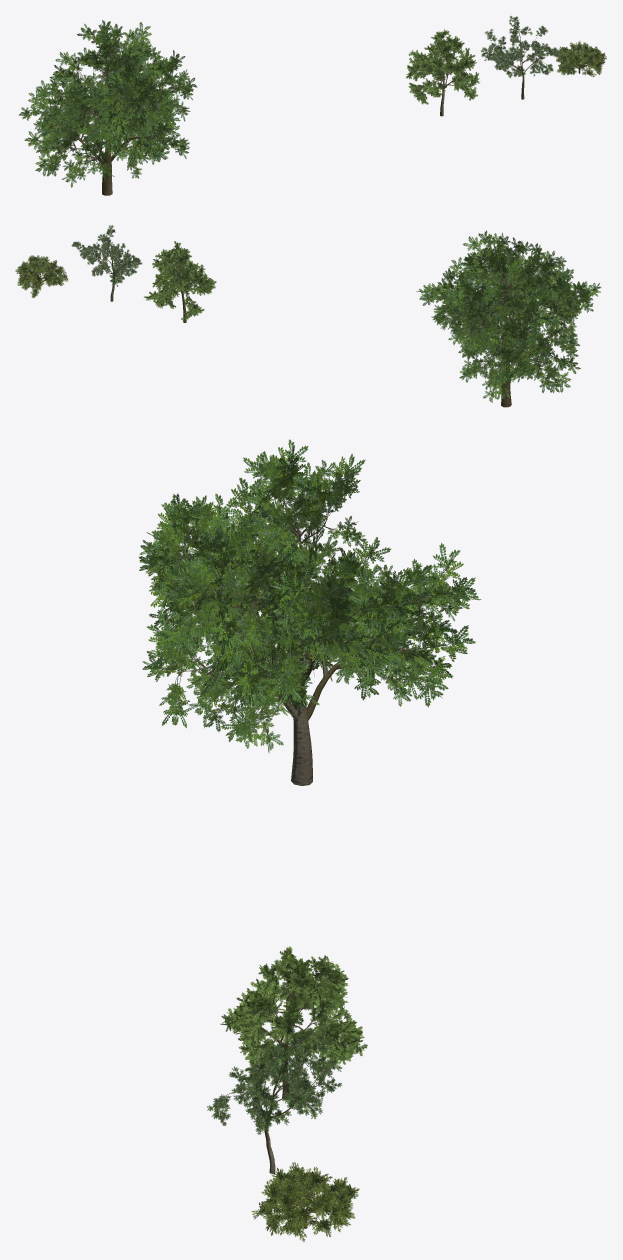
The model's file is trees.glb.
The picture shows the model from 3 angles, top to bottom: view 1: azimuth 30°, elevation 25°; view 2: azimuth 150°, elevation 25°; view 3: azimuth 270°, elevation 25°; orthographic projection. The views are drawn at different scales.
Visible parts, largest first — view 1: Tree EZTree0.Large, Tree EZTree0.Medium011, Tree EZTree1.Medium002, Tree EZTree1.Bush006; view 2: Tree EZTree0.Large, Tree EZTree0.Medium011, Tree EZTree1.Medium002, Tree EZTree1.Bush006; view 3: Tree EZTree0.Large, Tree EZTree0.Medium011, Tree EZTree1.Medium002, Tree EZTree1.Bush006.
Boxes of the visible parts, bbox=[...] form: Tree EZTree0.Large: bbox=[19, 20, 197, 195]; Tree EZTree0.Medium011: bbox=[406, 29, 479, 116]; Tree EZTree1.Medium002: bbox=[481, 16, 560, 99]; Tree EZTree1.Bush006: bbox=[556, 41, 606, 76]; Tree EZTree0.Large: bbox=[416, 230, 601, 407]; Tree EZTree0.Medium011: bbox=[144, 241, 216, 322]; Tree EZTree1.Medium002: bbox=[71, 225, 142, 301]; Tree EZTree1.Bush006: bbox=[15, 255, 68, 297]; Tree EZTree0.Large: bbox=[138, 439, 481, 785]; Tree EZTree0.Medium011: bbox=[220, 946, 367, 1099]; Tree EZTree1.Medium002: bbox=[207, 1010, 342, 1173]; Tree EZTree1.Bush006: bbox=[251, 1162, 359, 1242].
Bounding box in the file's own units: 361 × 104 × 98.68.
Materials: 8 (8 with a texture image).
